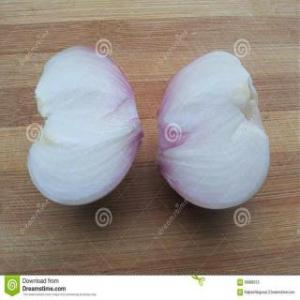onion: (26, 49, 144, 207), (158, 50, 272, 210)
